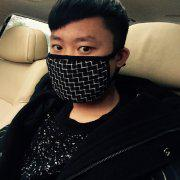OK: (46, 35, 113, 102)
